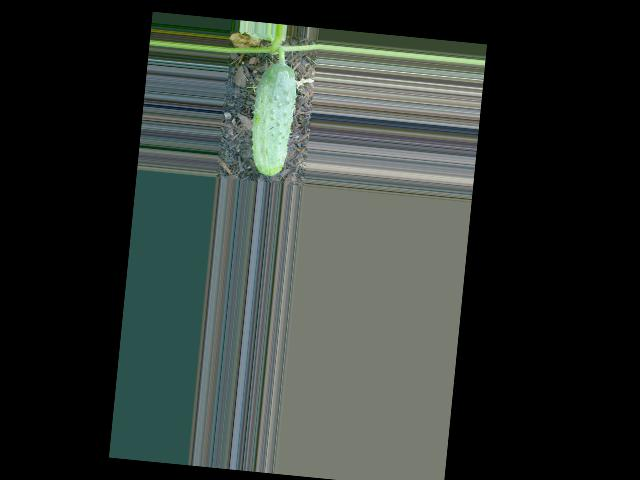cucumber: (247, 61, 299, 178)
